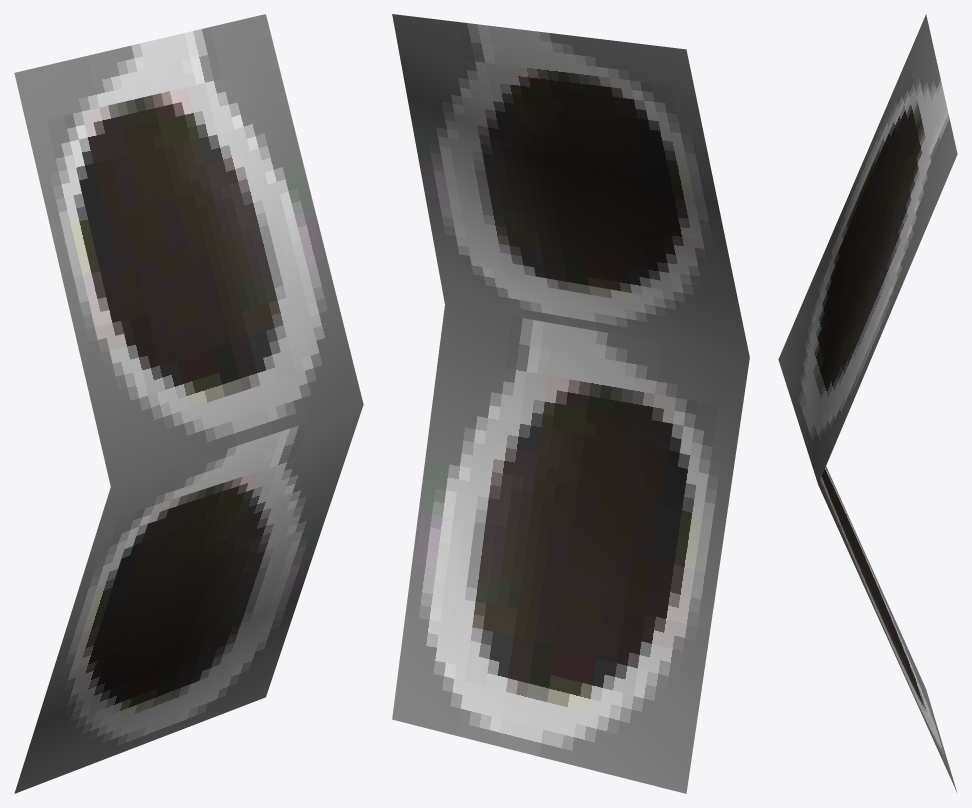
Rendered from acc_shade_oval.dae.
3 views of the same model, side by side, from view 1: azimuth 30°, elevation 25°; view 2: azimuth 150°, elevation 25°; view 3: azimuth 270°, elevation 25° (orthographic). The views are drawn at different scales.
Parts seen in each view (by area): view 1: acc_shade_oval; view 2: acc_shade_oval; view 3: acc_shade_oval.
Part boxes in pixels (left/top/right/bottom): acc_shade_oval: left=14, top=14, right=363, bottom=793; acc_shade_oval: left=392, top=14, right=749, bottom=793; acc_shade_oval: left=778, top=14, right=957, bottom=792.
Bounding box in the file's own units: 9.47 × 22.37 × 5.38.
1 material, 1 textured.
